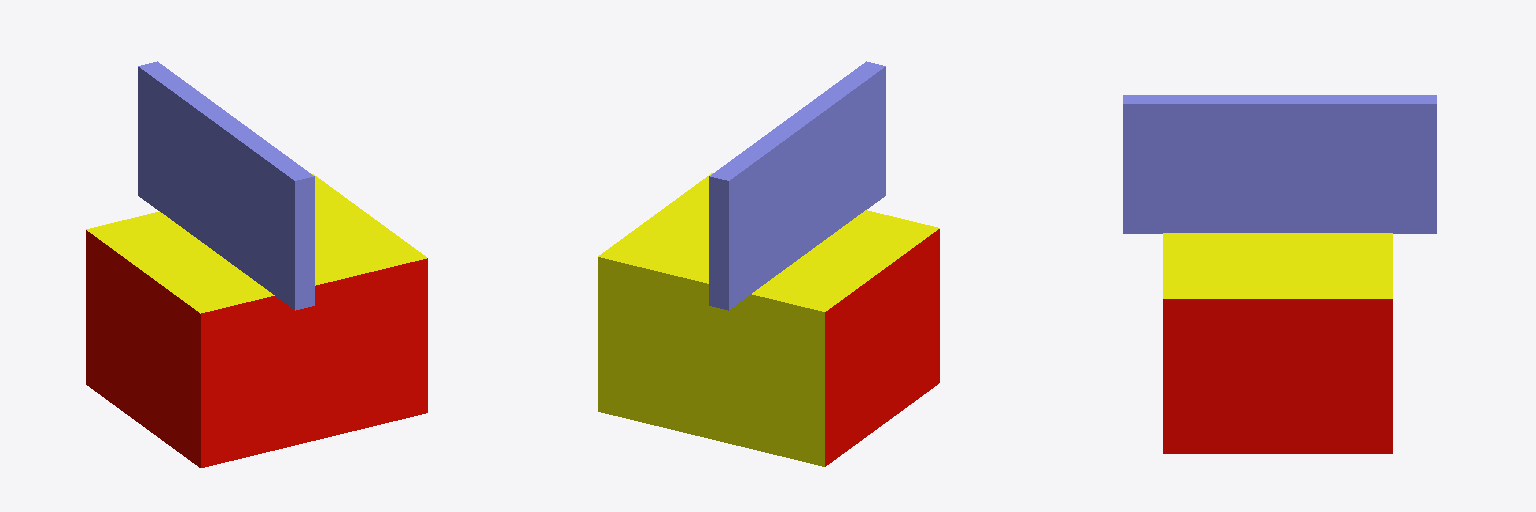
Rendered from parent_multi_mat_obj.obj.
3 renders of one model, left to right at view 1: azimuth 30°, elevation 25°; view 2: azimuth 150°, elevation 25°; view 3: azimuth 270°, elevation 25°, orthographic.
Visible parts, largest first — view 1: Box001, Box002; view 2: Box001, Box002; view 3: Box001, Box002.
Boxes of the visible parts, x1,y1,x2,y2 form: Box001: [86, 174, 427, 467]; Box002: [138, 61, 314, 310]; Box001: [598, 173, 939, 466]; Box002: [709, 61, 885, 310]; Box001: [1163, 233, 1392, 453]; Box002: [1123, 95, 1436, 233].
Size of the model in its own units: 38.35 by 45.73 by 45.82.